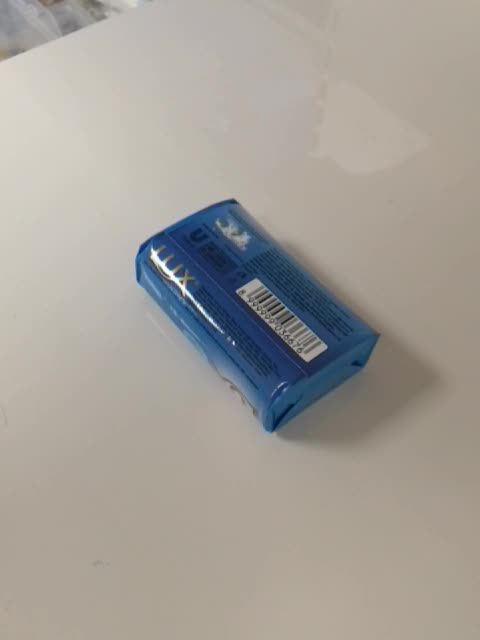soap: (134, 196, 383, 435)
